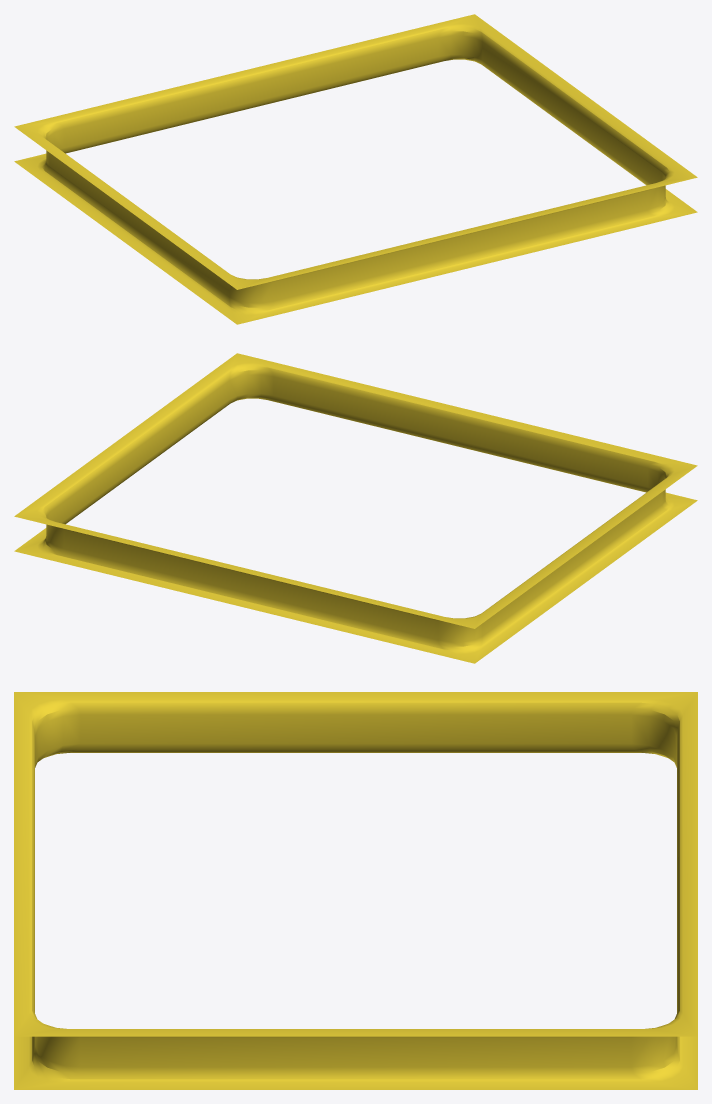
File: SM_HUB_Armature_renforecement.fbx
The picture shows the model from 3 angles, top to bottom: view 1: azimuth 30°, elevation 25°; view 2: azimuth 150°, elevation 25°; view 3: azimuth 270°, elevation 25°; orthographic projection. The views are drawn at different scales.
Visible parts, largest first — view 1: SM_HUB_Armature_renforecement; view 2: SM_HUB_Armature_renforecement; view 3: SM_HUB_Armature_renforecement.
Part boxes in pixels (box(x1,y1,x2,y2)): SM_HUB_Armature_renforecement: box(14, 14, 697, 324); SM_HUB_Armature_renforecement: box(14, 353, 697, 663); SM_HUB_Armature_renforecement: box(14, 692, 697, 1089).
Bounding box in the file's own units: 3733 × 269 × 3131.
